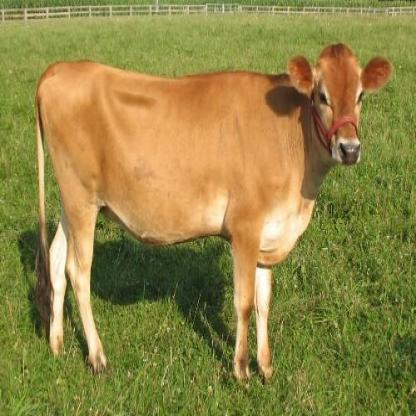cow: (34, 44, 392, 392)
